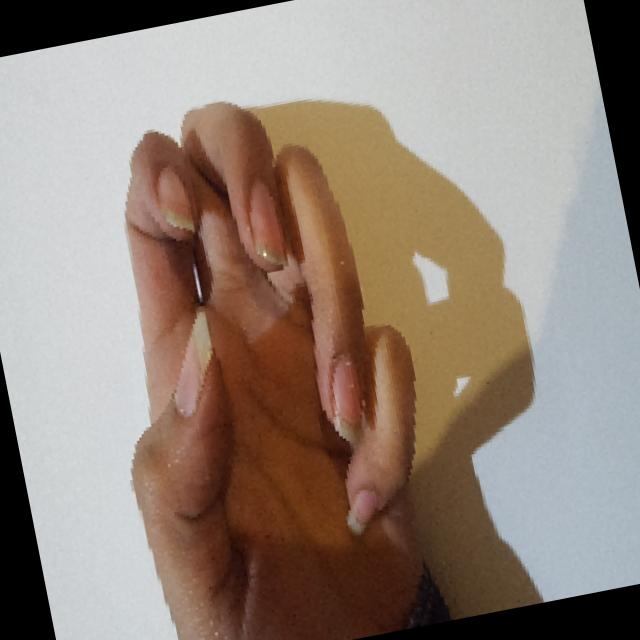Nail: (174, 309, 213, 416), (252, 181, 288, 266), (332, 354, 362, 441), (156, 166, 196, 231), (346, 486, 378, 532)
